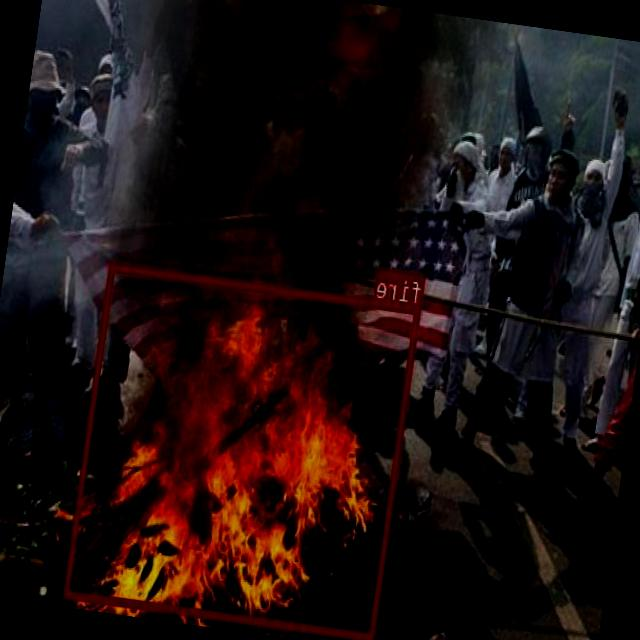fire: (65, 261, 422, 640)
